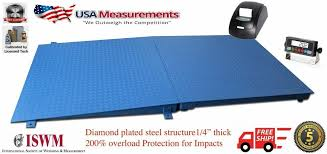Industrial Scale: (10, 1, 322, 126)
